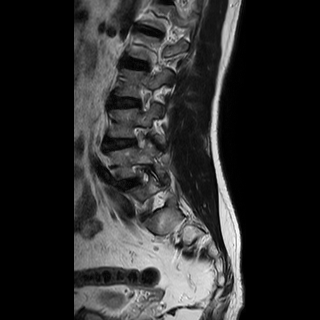LFS0: (129, 118, 153, 156)
